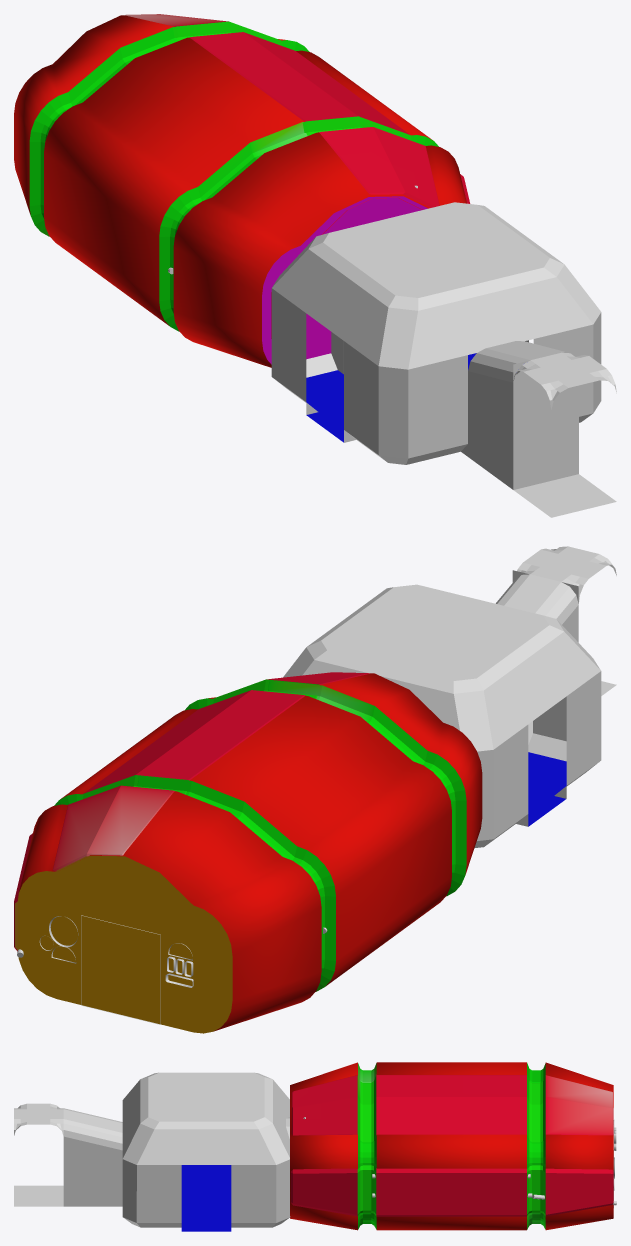
Rendered from HallSegment.fbx.
3 renders of one model, top to bottom at view 1: azimuth 30°, elevation 25°; view 2: azimuth 150°, elevation 25°; view 3: azimuth 270°, elevation 25°, orthographic. The views are drawn at different scales.
Parts seen in each view (by area): view 1: SubInteriorHighPoly, Plane, SubInteriorLowPoly, HallSegment, HallBlock, HallCenter; view 2: SubInteriorHighPoly, Plane, SubInteriorLowPoly, HallSegment, HallCenter; view 3: SubInteriorLowPoly, Plane, SubInteriorHighPoly, HallSegment, HallCenter.
Boxes of the visible parts, x1=… form: SubInteriorHighPoly: x1=14, y1=15, x2=466, y2=367; Plane: x1=271, y1=202, x2=601, y2=464; SubInteriorLowPoly: x1=124, y1=14, x2=470, y2=359; HallSegment: x1=468, y1=341, x2=578, y2=489; HallBlock: x1=513, y1=371, x2=578, y2=489; HallCenter: x1=513, y1=352, x2=616, y2=517; SubInteriorHighPoly: x1=17, y1=673, x2=482, y2=1033; Plane: x1=283, y1=584, x2=601, y2=848; SubInteriorLowPoly: x1=14, y1=672, x2=369, y2=951; HallSegment: x1=496, y1=570, x2=578, y2=744; HallCenter: x1=517, y1=546, x2=616, y2=695; SubInteriorLowPoly: x1=290, y1=1074, x2=613, y2=1216; Plane: x1=122, y1=1072, x2=290, y2=1231; SubInteriorHighPoly: x1=290, y1=1062, x2=616, y2=1230; HallSegment: x1=63, y1=1108, x2=122, y2=1206; HallCenter: x1=14, y1=1103, x2=63, y2=1206.
Bounding box in the file's own units: 925 × 578 × 2515.
